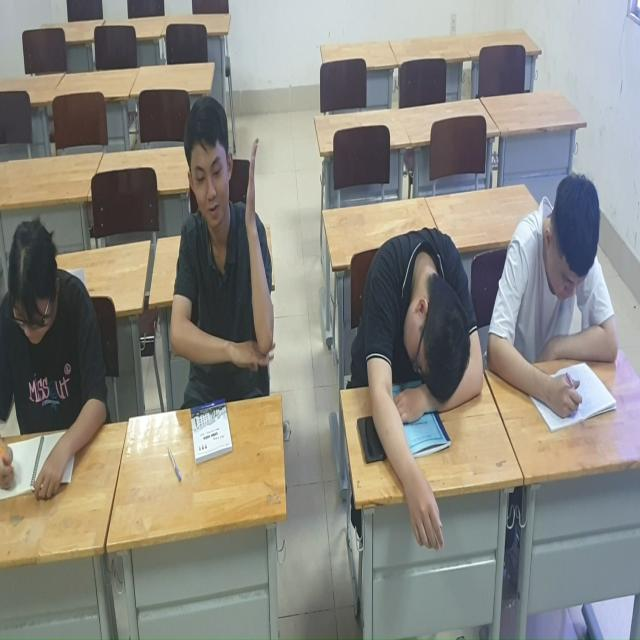raise_hand: (165, 86, 280, 428)
read: (1, 214, 128, 512), (484, 165, 623, 429)
sleep: (360, 211, 487, 577)
